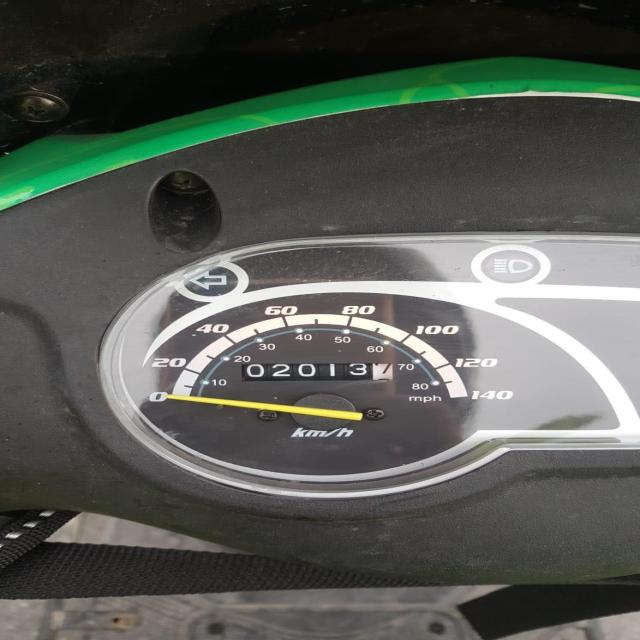odometer: (238, 362, 396, 383)
